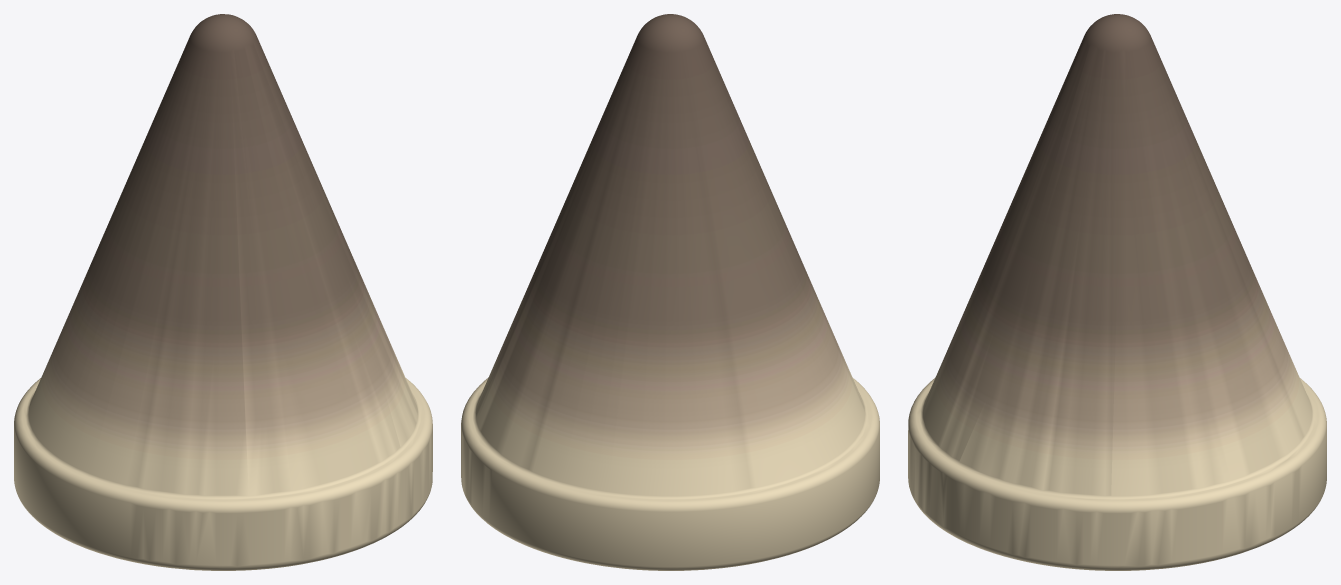
Rendered from pawn-black.glb.
3 renders of one model, left to right at view 1: azimuth 30°, elevation 25°; view 2: azimuth 150°, elevation 25°; view 3: azimuth 270°, elevation 25°, orthographic.
Visible parts, largest first — view 1: MONOLITH Pěšec – Kouř (černý); view 2: MONOLITH Pěšec – Kouř (černý); view 3: MONOLITH Pěšec – Kouř (černý).
Boxes of the visible parts, bbox=[...] form: MONOLITH Pěšec – Kouř (černý): bbox=[14, 14, 432, 570]; MONOLITH Pěšec – Kouř (černý): bbox=[461, 14, 879, 570]; MONOLITH Pěšec – Kouř (černý): bbox=[908, 14, 1326, 570].
Size of the model in its own units: 0.6646 by 0.82 by 0.6646.
Materials: 1 (1 with a texture image).
